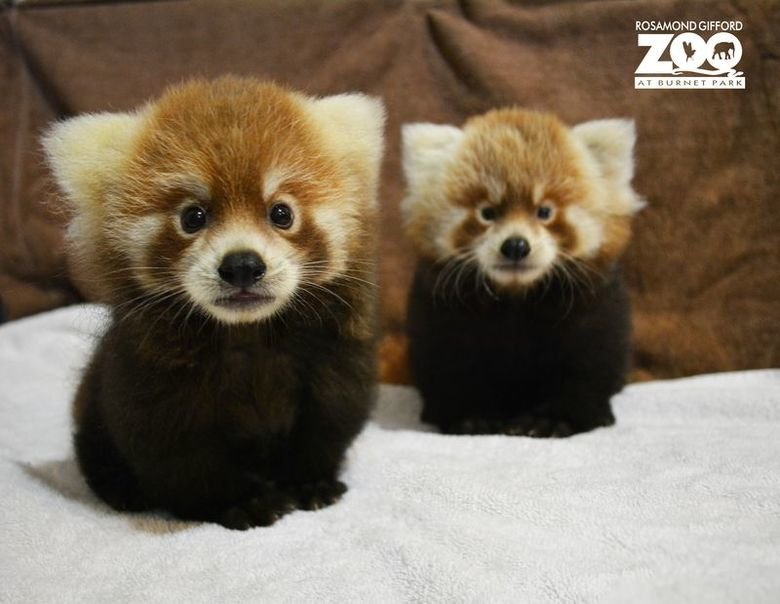red_panda: (48, 78, 388, 524), (401, 107, 656, 449)
